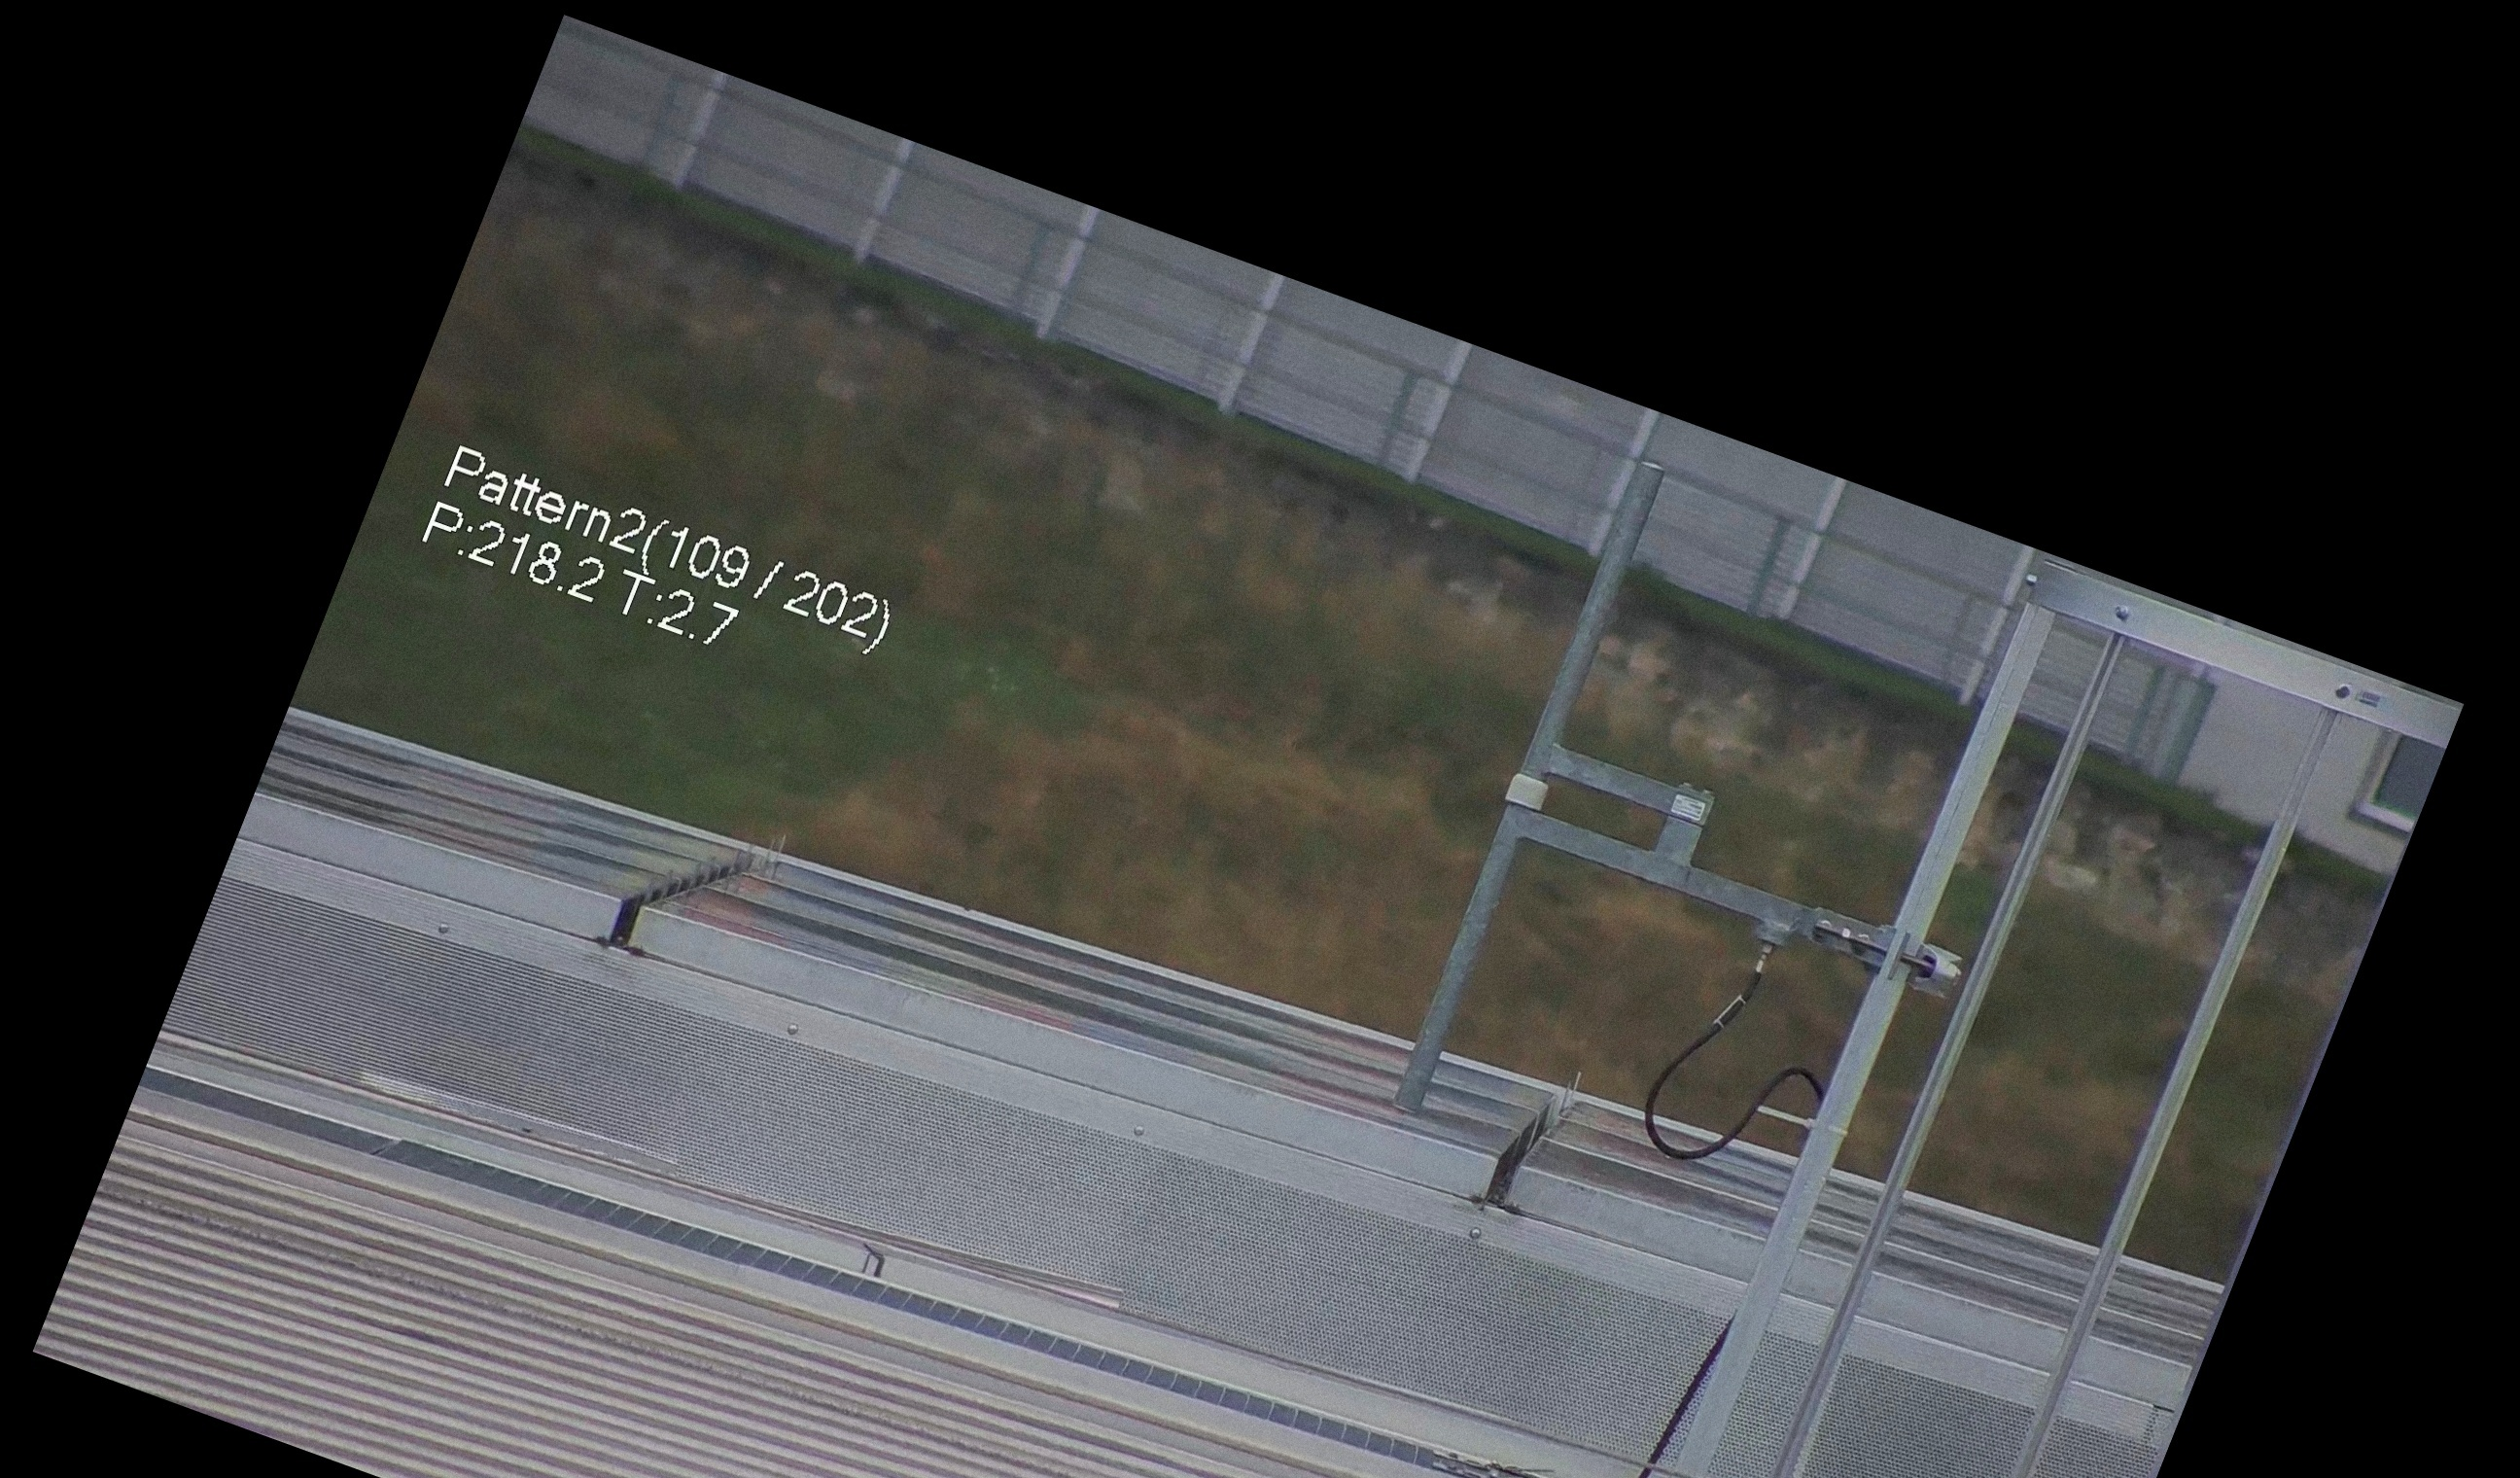Other: (2307, 1314, 2451, 1478)
